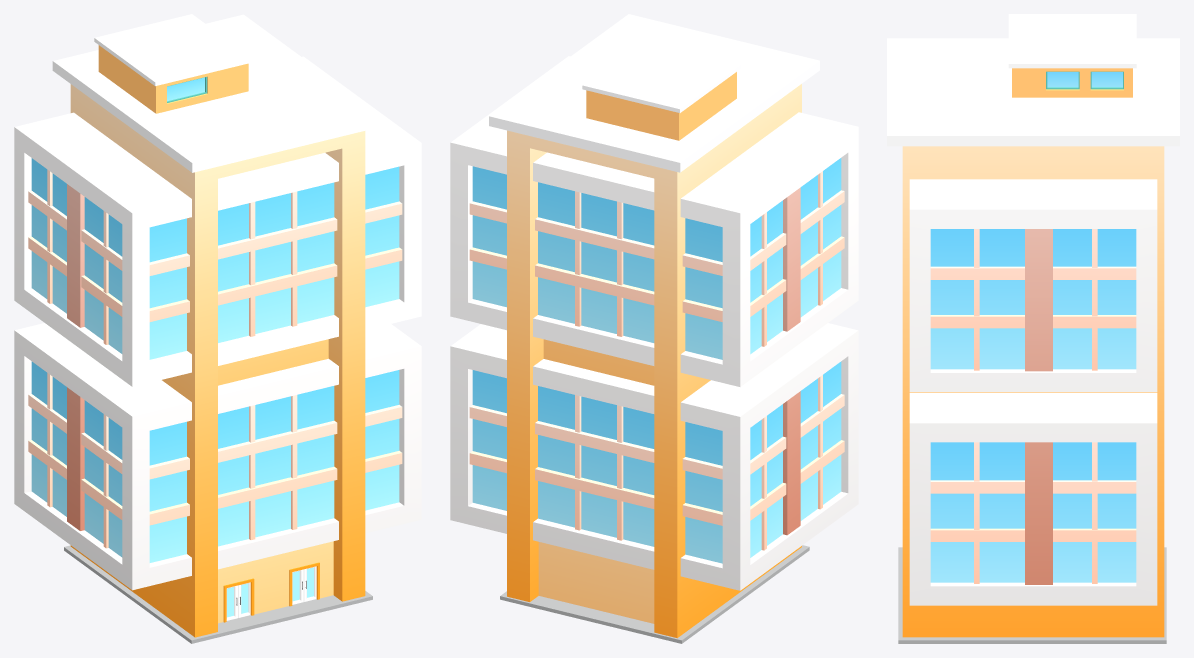
Rendered from Building_Living_58.glb.
3 renders of one model, left to right at view 1: azimuth 30°, elevation 25°; view 2: azimuth 150°, elevation 25°; view 3: azimuth 270°, elevation 25°, orthographic. The views are drawn at different scales.
Visible parts, largest first — view 1: Building_Living_58; view 2: Building_Living_58; view 3: Building_Living_58.
Boxes of the visible parts, left/top/right/bottom form: Building_Living_58: left=14, top=14, right=421, bottom=643; Building_Living_58: left=450, top=14, right=858, bottom=643; Building_Living_58: left=887, top=14, right=1179, bottom=643.
Size of the model in its own units: 19.29 by 33.09 by 16.12.
1 material, 1 textured.
